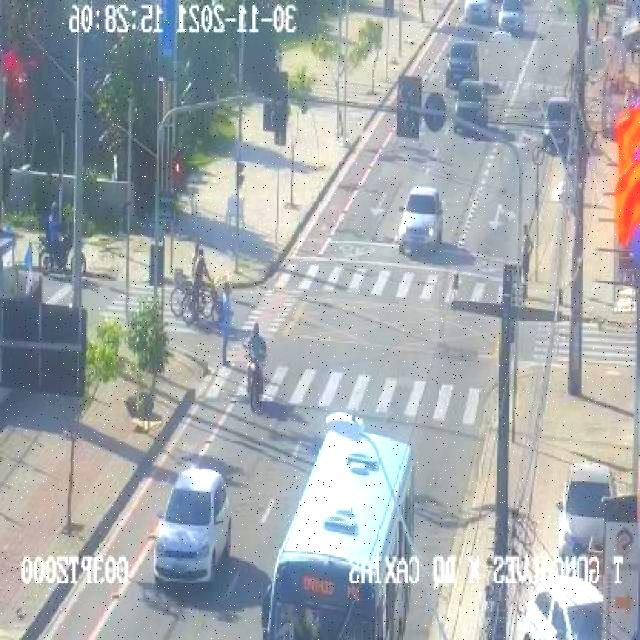Bus: (263, 411, 416, 639)
Car: (153, 466, 230, 586), (557, 462, 617, 556), (520, 577, 605, 640), (397, 186, 444, 253), (541, 97, 576, 158), (454, 79, 488, 133), (447, 38, 480, 88), (498, 0, 525, 35), (464, 0, 492, 25)
